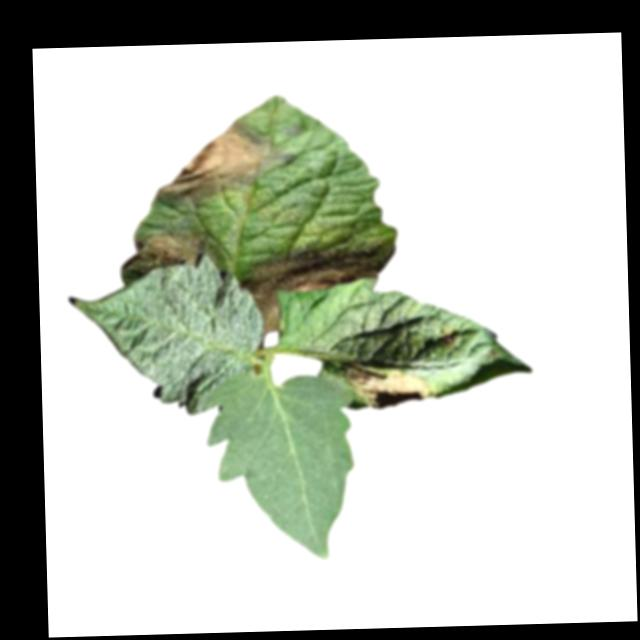Late_blight: (242, 237, 398, 334), (152, 116, 295, 203), (343, 360, 432, 410), (124, 228, 209, 269)
